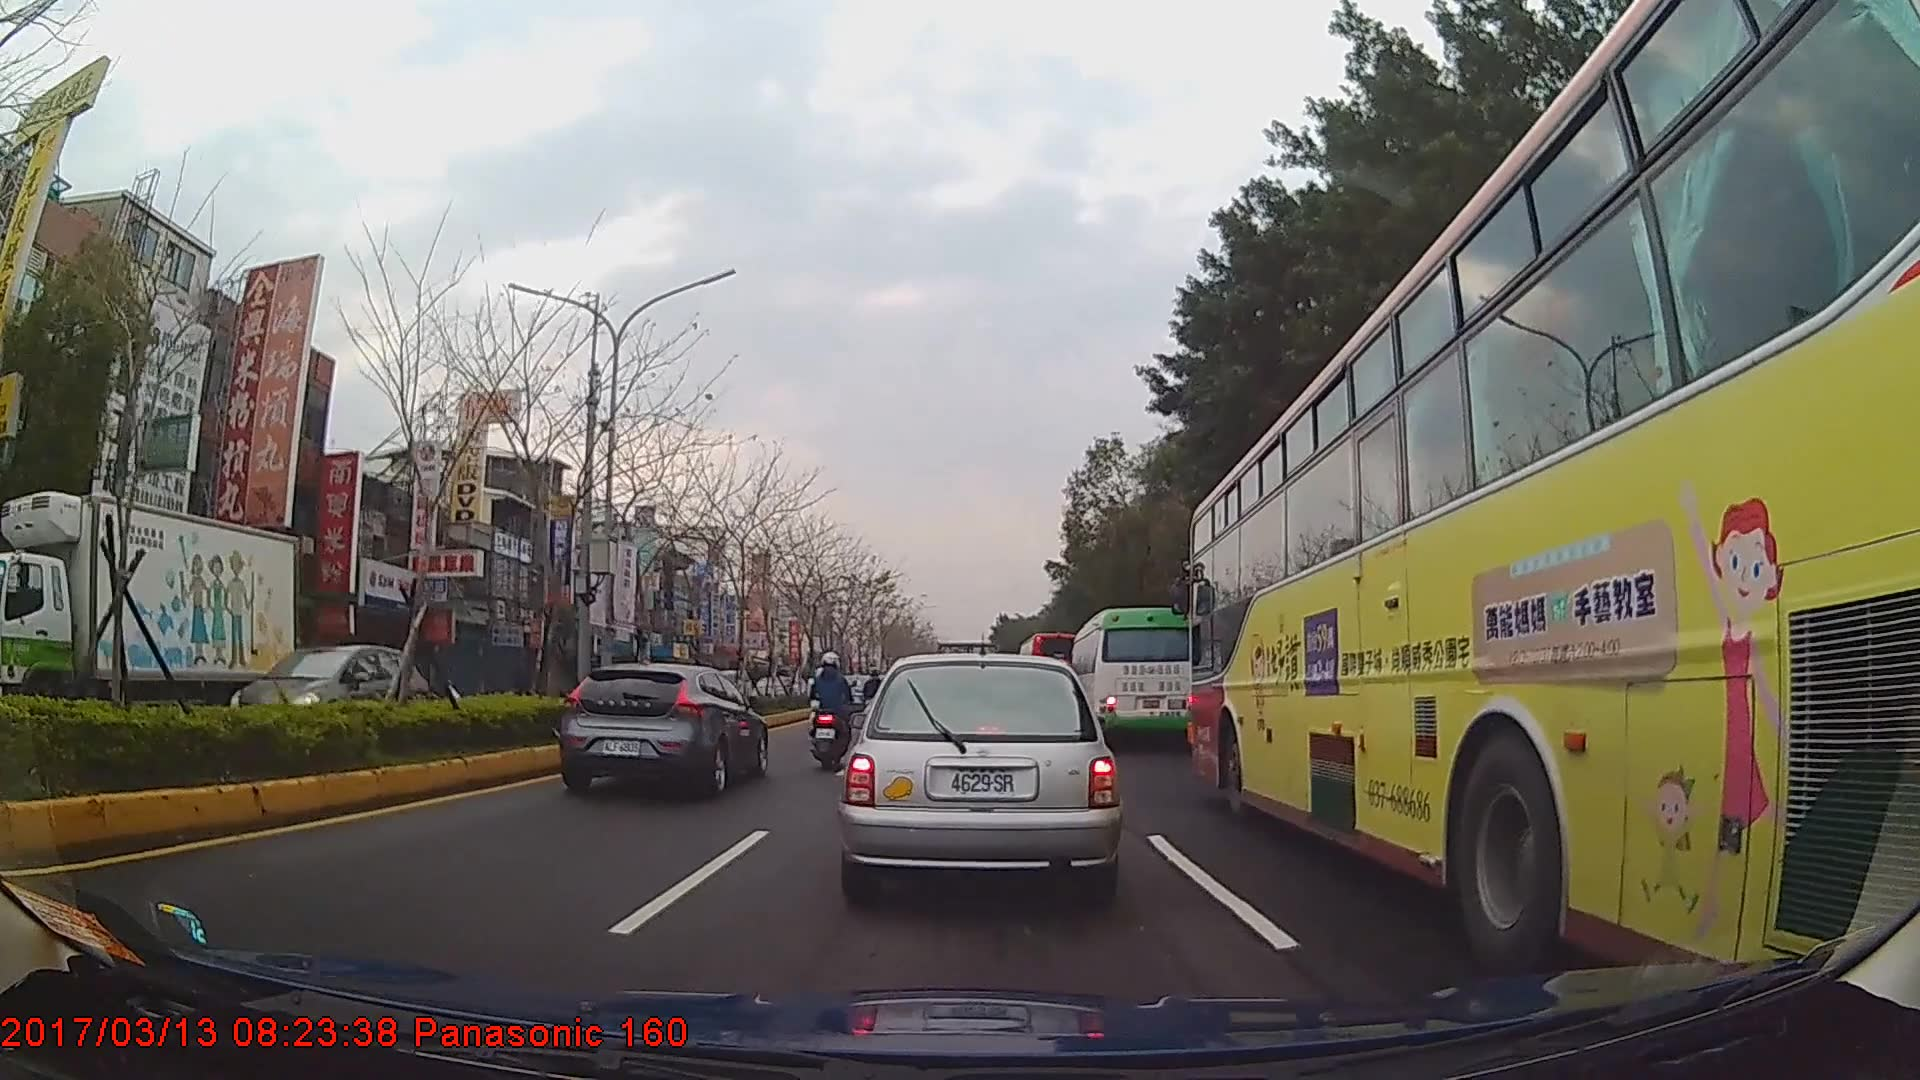rider: (808, 654, 856, 760), (863, 671, 885, 738)
vehicle: (1187, 0, 1920, 1026), (0, 489, 295, 749), (838, 652, 1119, 913), (558, 660, 770, 799), (228, 643, 431, 747), (1068, 606, 1196, 749), (1014, 634, 1083, 708)
